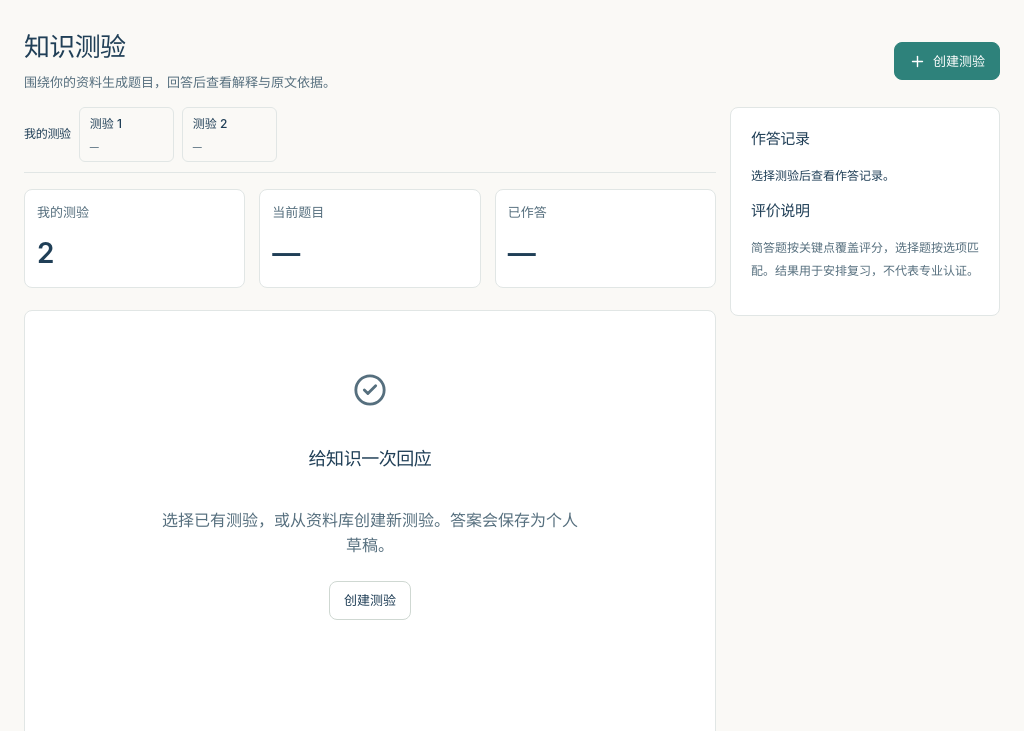
Test: a submitted result survives history refresh failure and retry never resubmits
Click the button "测验 1 —".
click(126, 134)  # box [79, 107, 174, 162]
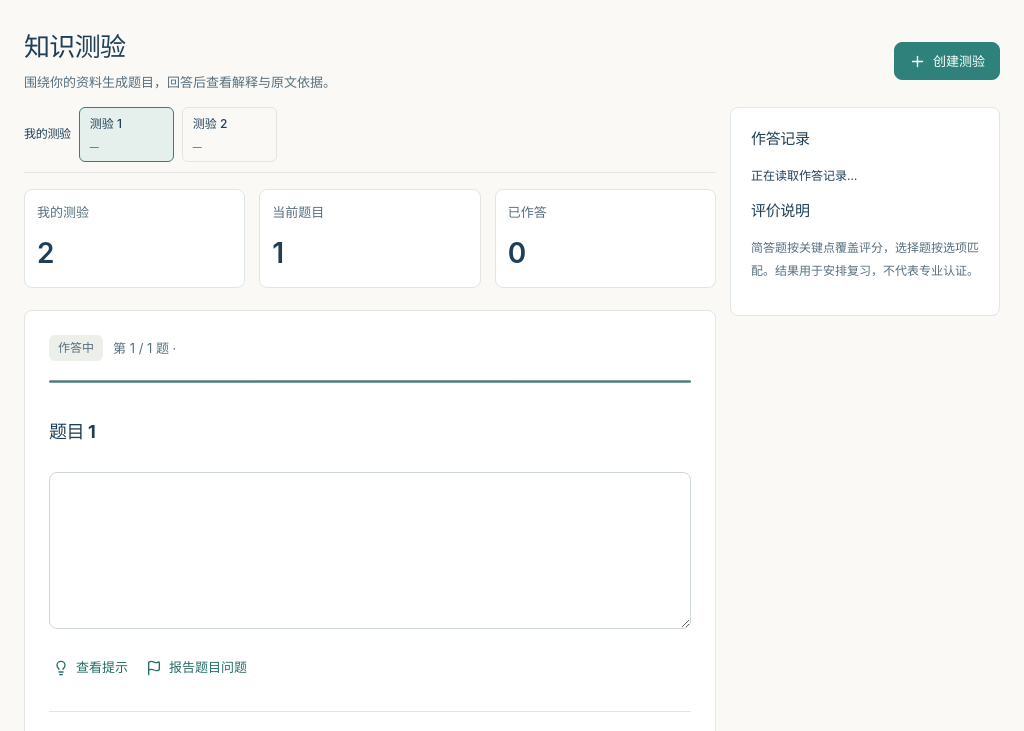
Result: the text box named "你的答案" is shown
Type "提交答案" into the text box named "你的答案".
click(370, 550); type("提交答案")  # box [49, 472, 691, 629]
(page scrolled)
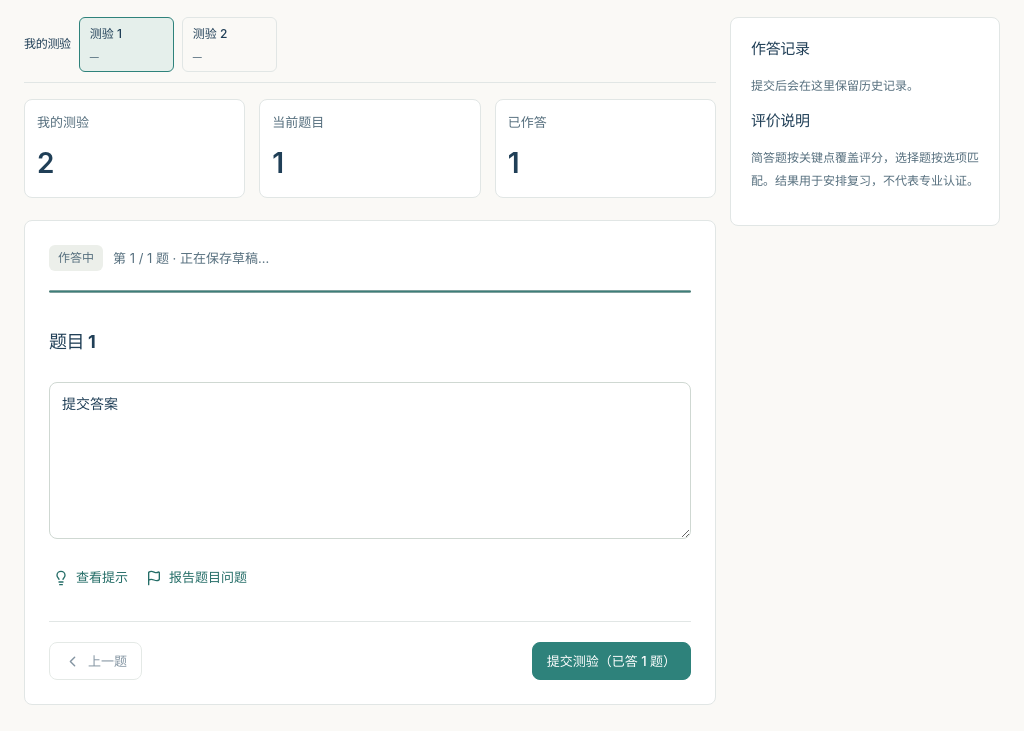
Click the button "提交测验（已答 1 题）".
click(611, 661)  # box [532, 642, 691, 680]
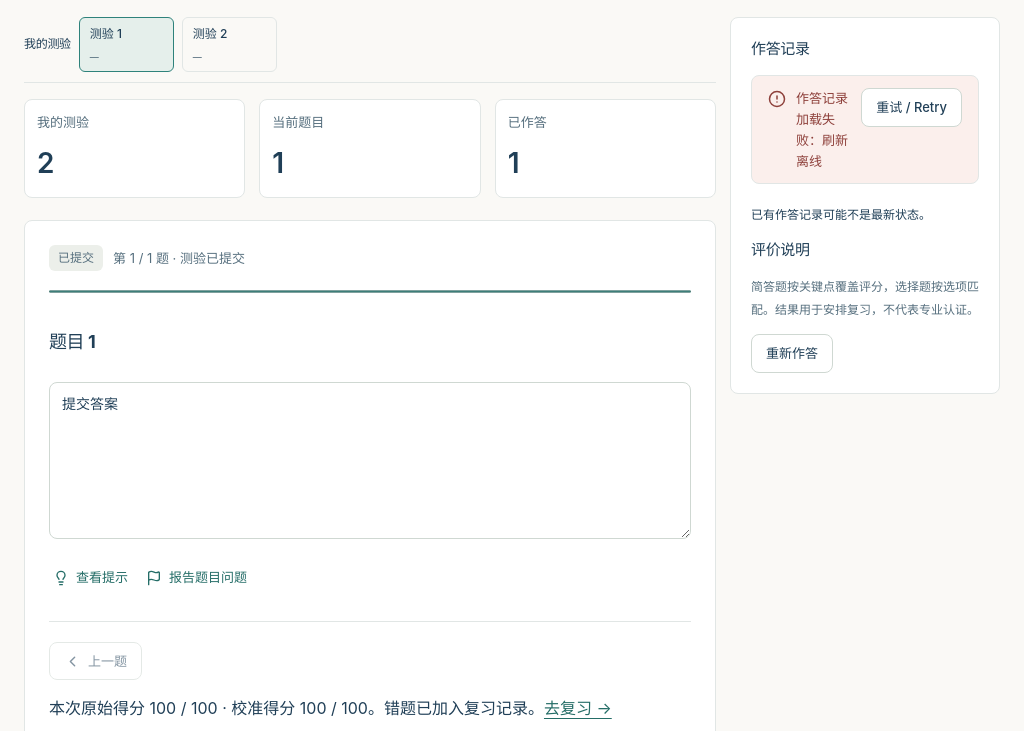
Result: the text box named "你的答案" is disabled at [49, 382, 691, 539]
Result: the text "本次原始得分 100 / 100 · 校准得分 100 / 100。错题已加入复习记录。 去复习 →" is shown at [49, 696, 691, 722]
Result: the text "作答记录加载失败：刷新离线" is shown at [796, 88, 851, 171]
Click the button "重试 / Retry".
click(912, 108)  # box [861, 88, 962, 127]
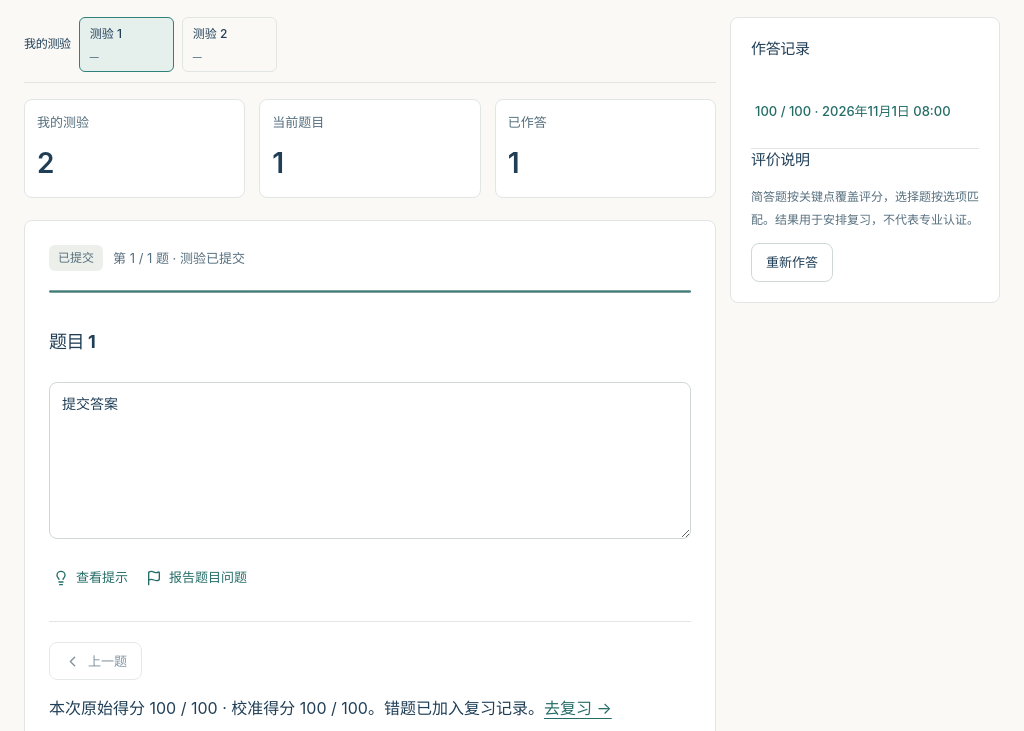
Result: the button "100 / 100 · 2026年11月1日 08:00" is shown at [751, 91, 954, 132]
